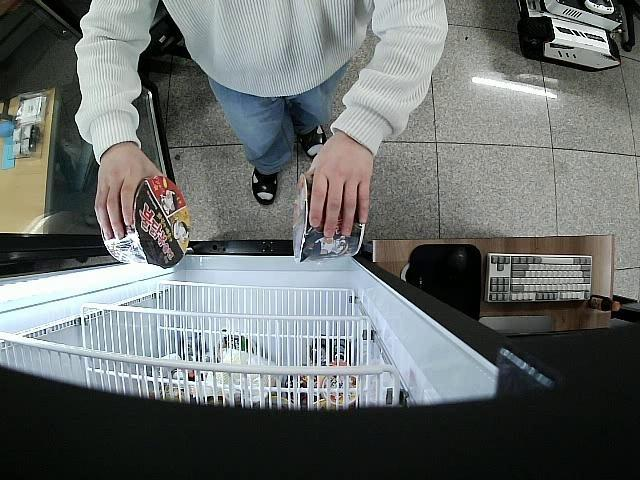07_buldak_L: (100, 174, 191, 269), (291, 172, 366, 264)
